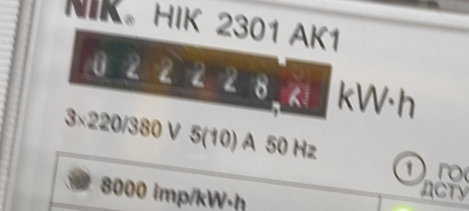0: (88, 48, 108, 78)
2: (121, 50, 144, 82), (220, 64, 241, 95), (187, 59, 208, 88), (155, 55, 175, 85)
5: (288, 61, 306, 83)
6: (285, 84, 304, 107)
8: (251, 71, 270, 101)
screen: (58, 17, 343, 129)
